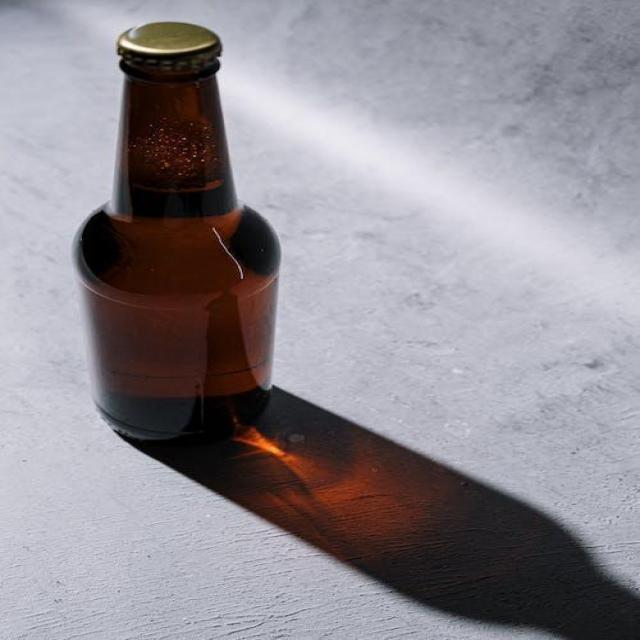beer-bottle: (83, 15, 282, 452)
